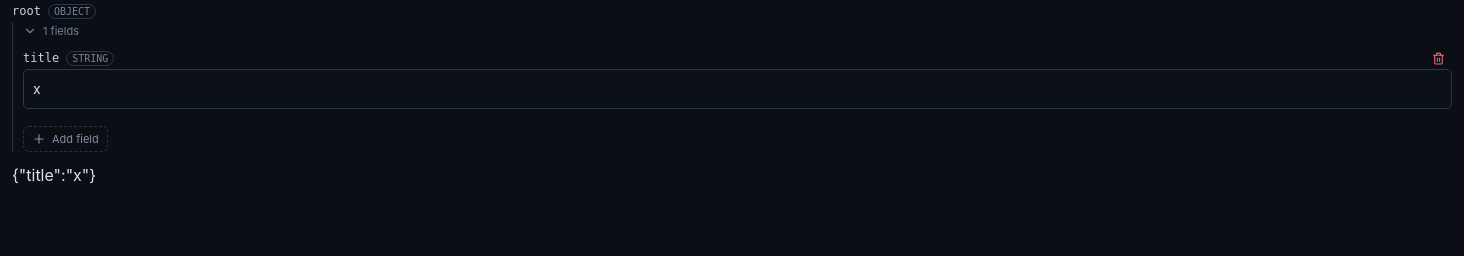
it: DynamicFieldEditor adds a typed field
Click the button "Add field". click: (65, 139)
box: x1=23 y1=126 x2=108 y2=152
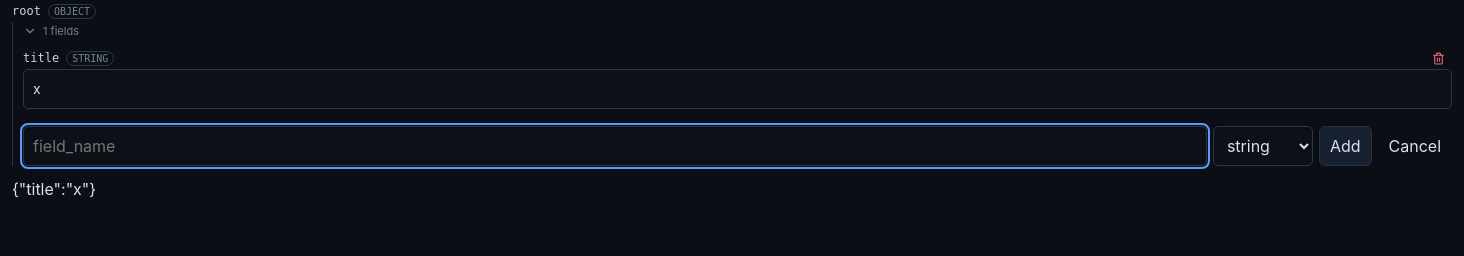
Type "enabled" into the field with placeholder "field_name". click: (615, 146)
box: x1=23 y1=126 x2=1207 y2=166
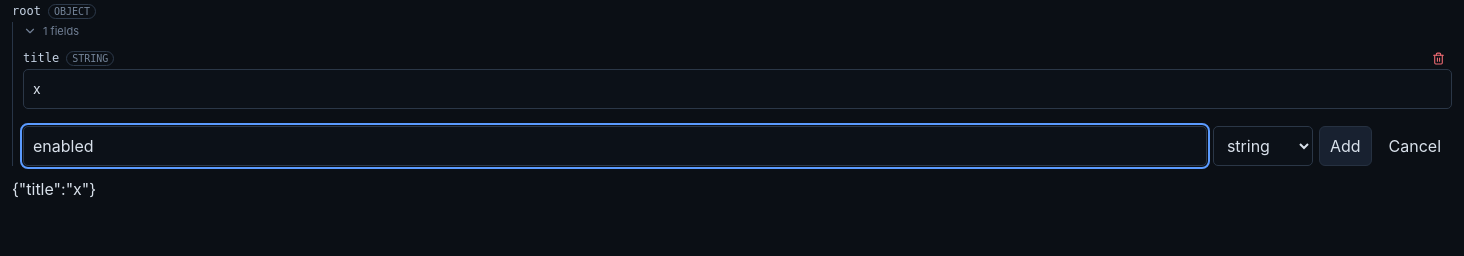
Select "boolean" in the dropdown showing "string". click: (1263, 146)
box: x1=1213 y1=126 x2=1313 y2=166
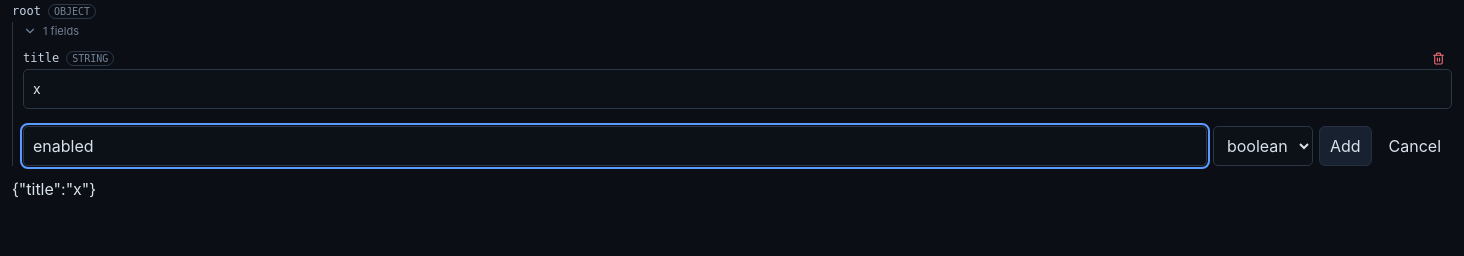
Click the button "Add". click: (1345, 146)
box: x1=1319 y1=126 x2=1372 y2=166
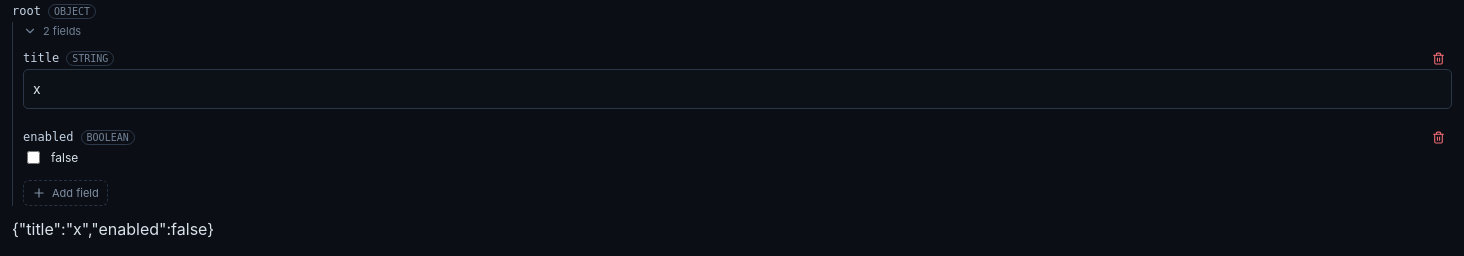
Now the text "{\"title\":\"x\",\"enabled\":false}" is shown, box x1=12 y1=219 x2=214 y2=239
